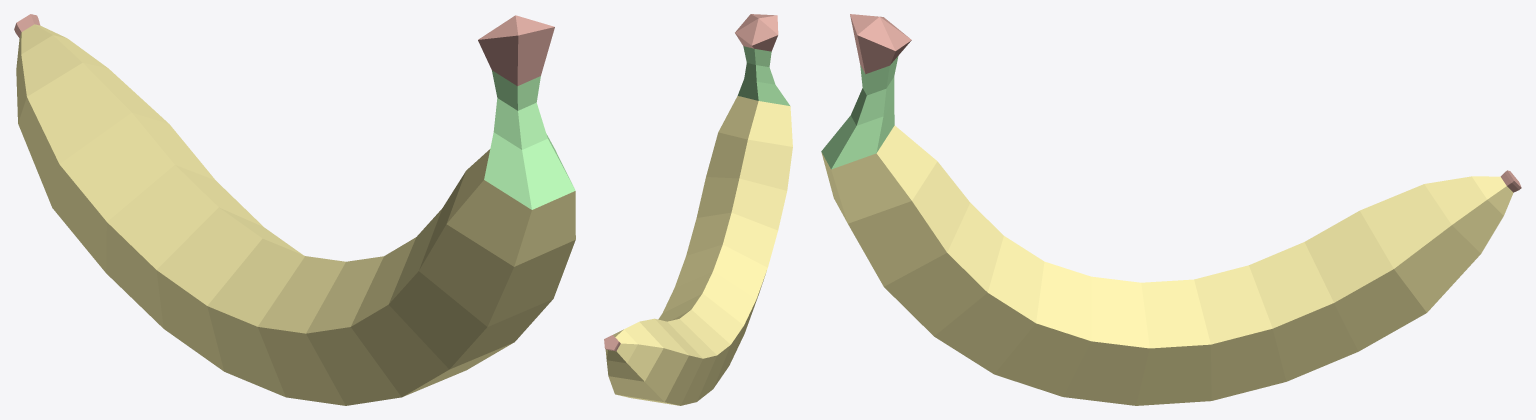
Rendered from Banana.fbx.
The picture shows the model from 3 angles, left to right: view 1: azimuth 30°, elevation 25°; view 2: azimuth 150°, elevation 25°; view 3: azimuth 270°, elevation 25°; orthographic projection. The views are drawn at different scales.
Visible parts, largest first — view 1: Banana; view 2: Banana; view 3: Banana.
Boxes of the visible parts, box(x1,y1,x2,y2) form: Banana: box(14, 14, 575, 405); Banana: box(604, 14, 792, 405); Banana: box(821, 14, 1521, 405).
Size of the model in its own units: 20.41 by 41.42 by 65.9.
